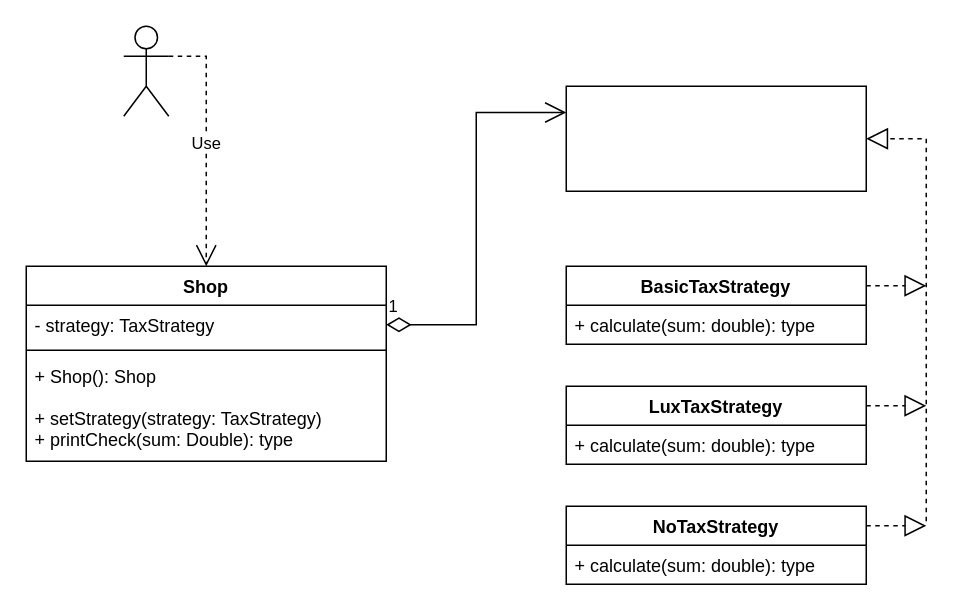
The diagram is 974 pixels wide and 615 high, and some of its shapes have lost their labels. The shapes that lost their labels are listed below. From the top down, each one's centre as x and y in pixels, then its label:
At point 145,70: "Actor".
At point 715,138: "<<Interface>> TaxStrategy + calculate(sum: double) : double".
